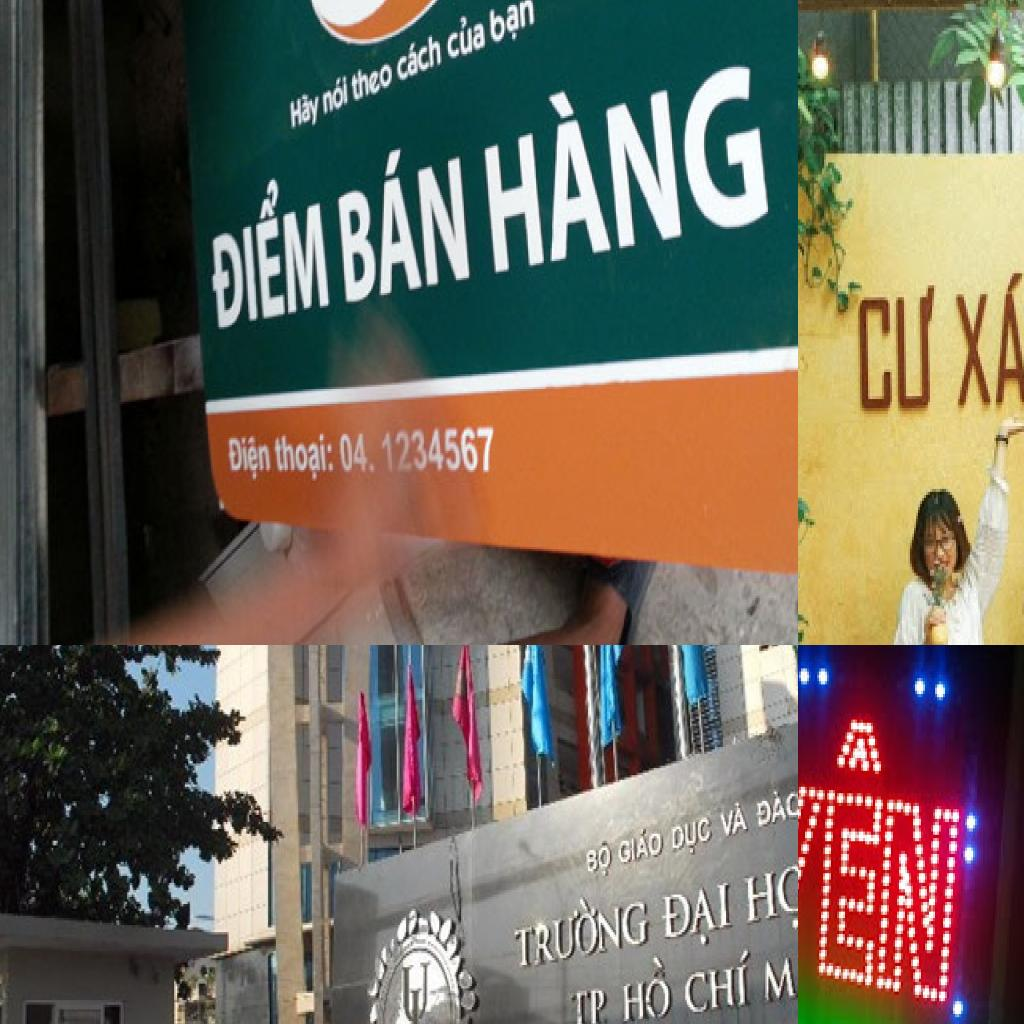text: (478, 41, 774, 278), (798, 681, 975, 1010), (332, 127, 474, 310), (206, 161, 333, 338), (512, 880, 652, 976), (858, 282, 938, 414), (954, 267, 1024, 410), (660, 878, 739, 956), (682, 944, 754, 1021), (742, 848, 798, 944), (619, 953, 675, 1024), (270, 430, 336, 485), (392, 26, 445, 88), (486, 0, 539, 54), (762, 934, 798, 1009), (226, 427, 274, 483), (445, 5, 488, 67), (752, 780, 798, 836), (618, 820, 665, 874), (350, 56, 397, 108), (671, 810, 715, 864), (400, 955, 433, 1024), (566, 981, 610, 1024), (715, 799, 753, 843), (288, 86, 322, 133), (320, 73, 350, 120), (585, 836, 615, 881), (409, 986, 435, 1024)
